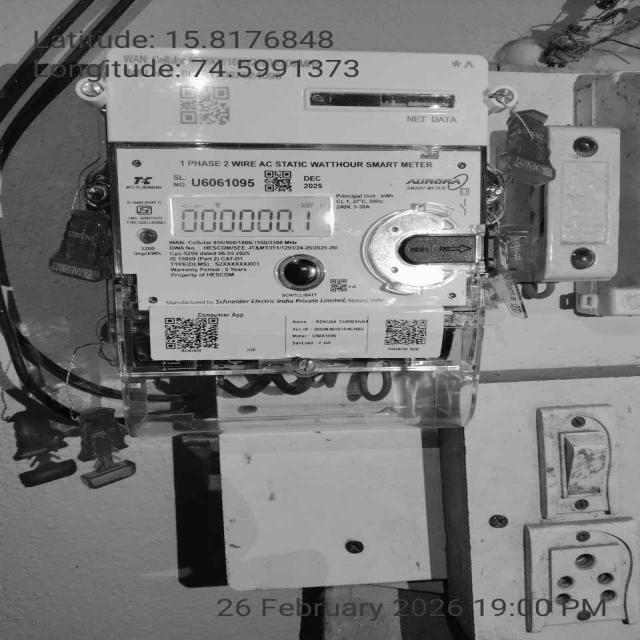meter: (109, 45, 487, 364)
